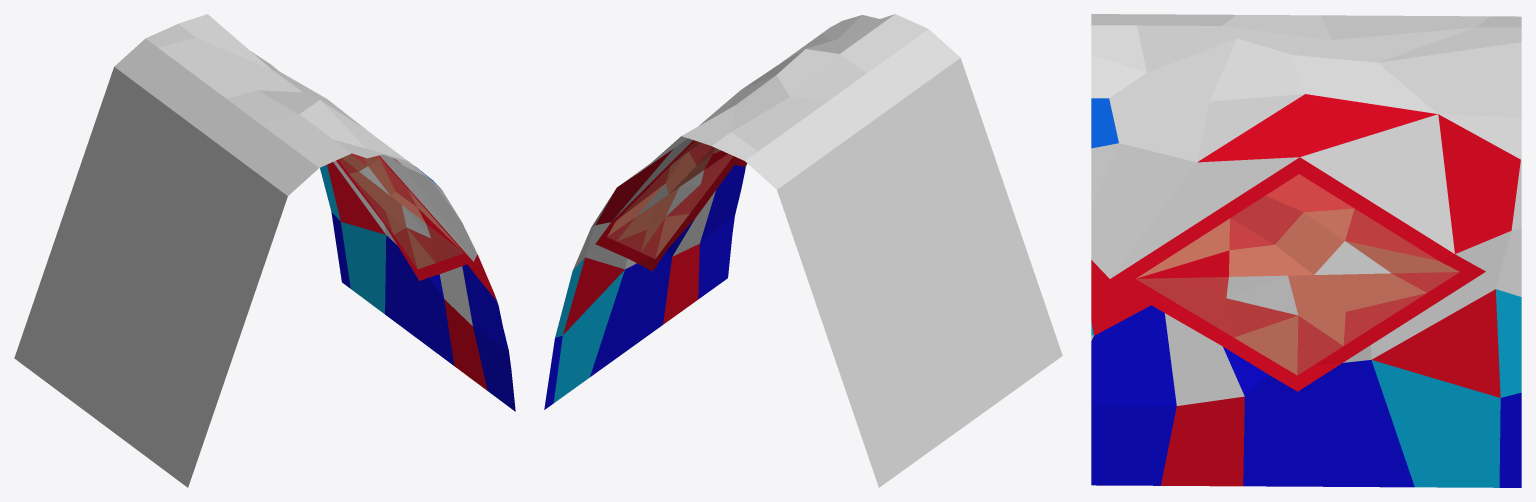
Rendered from Forma2.fbx.
3 views of the same model, side by side, from view 1: azimuth 30°, elevation 25°; view 2: azimuth 150°, elevation 25°; view 3: azimuth 270°, elevation 25° (orthographic). The views are drawn at different scales.
Visible parts, largest first — view 1: Forma2; view 2: Forma2; view 3: Forma2.
Part boxes in pixels (left/top/right/bottom): Forma2: left=14, top=14, right=515, bottom=487; Forma2: left=544, top=14, right=1062, bottom=487; Forma2: left=1091, top=14, right=1521, bottom=487.
Bounding box in the file's own units: 93.87 × 81.89 × 86.95.
